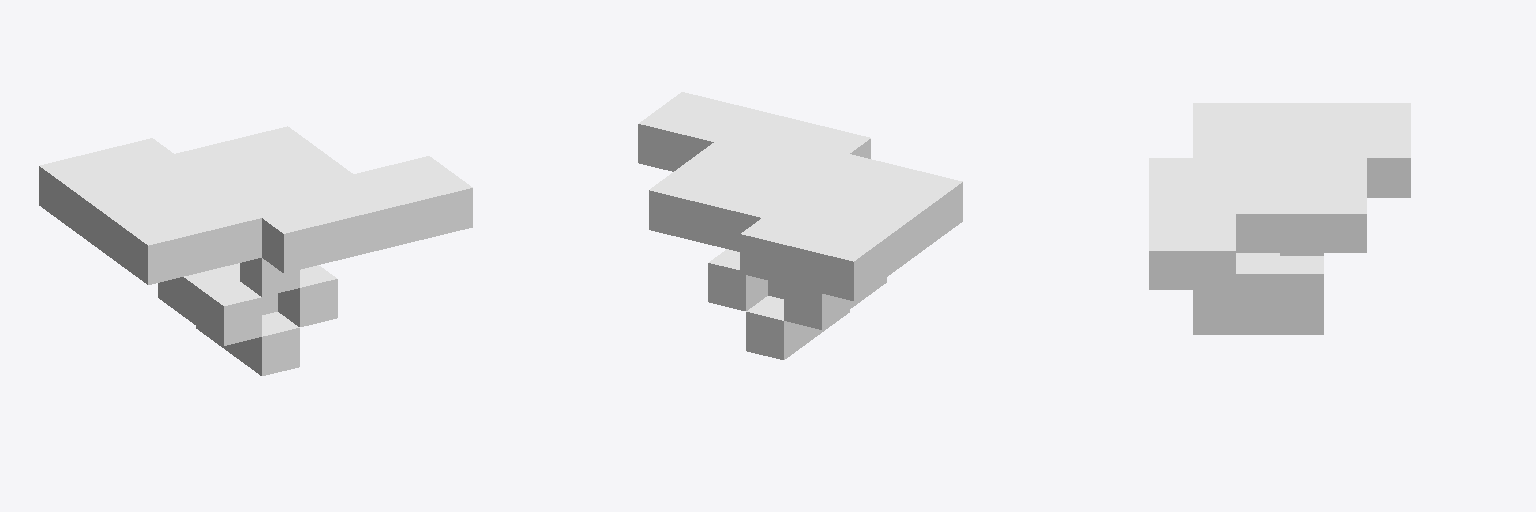
File: Extra-1-GalactixRacer_Wing1_R.obj
3 views of the same model, side by side, from view 1: azimuth 30°, elevation 25°; view 2: azimuth 150°, elevation 25°; view 3: azimuth 270°, elevation 25° (orthographic).
Visible parts, largest first — view 1: GalactixRacer_Wing1_R; view 2: GalactixRacer_Wing1_R; view 3: GalactixRacer_Wing1_R.
Boxes of the visible parts, x1=… form: GalactixRacer_Wing1_R: x1=39, y1=126, x2=472, y2=375; GalactixRacer_Wing1_R: x1=638, y1=92, x2=962, y2=359; GalactixRacer_Wing1_R: x1=1149, y1=103, x2=1410, y2=334.
Size of the model in its own units: 0.8 by 0.4 by 0.6.